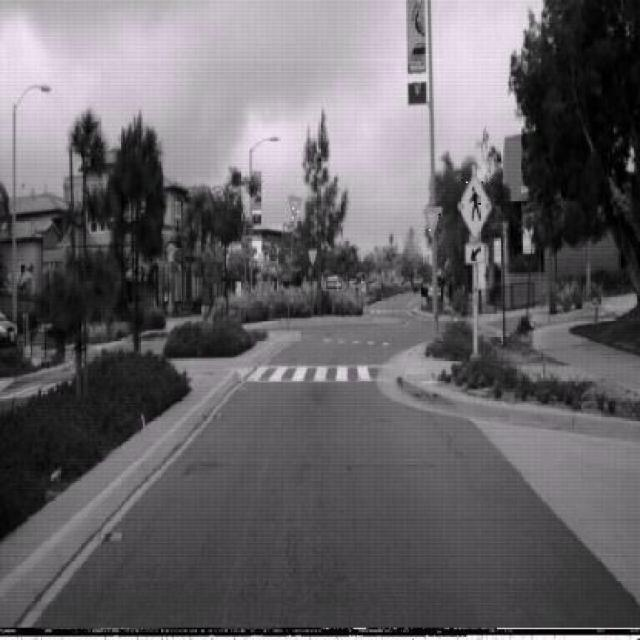pedestrianCrossing: (457, 172, 492, 243)
yield: (425, 205, 443, 238), (288, 192, 303, 220)
